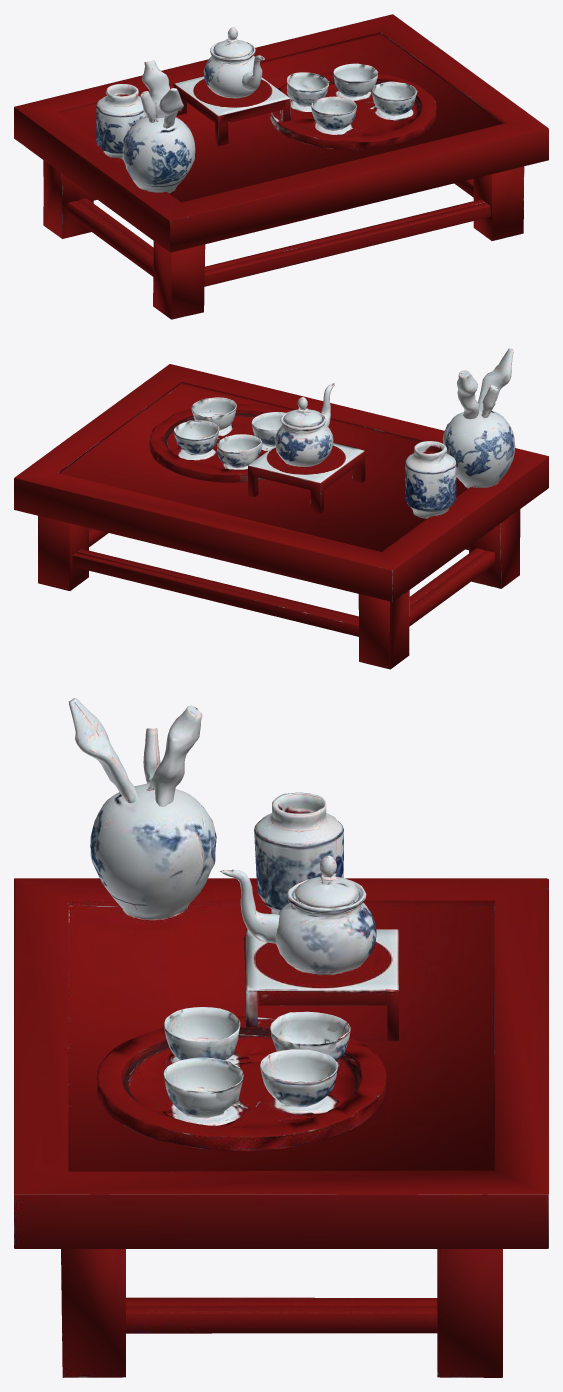
Rendered from bantra.glb.
3 views of the same model, one above another, from view 1: azimuth 30°, elevation 25°; view 2: azimuth 150°, elevation 25°; view 3: azimuth 270°, elevation 25° (orthographic). The views are drawn at different scales.
Size of the model in its own units: 0.9526 by 0.5439 by 0.6768.
Materials: 1 (1 with a texture image).
